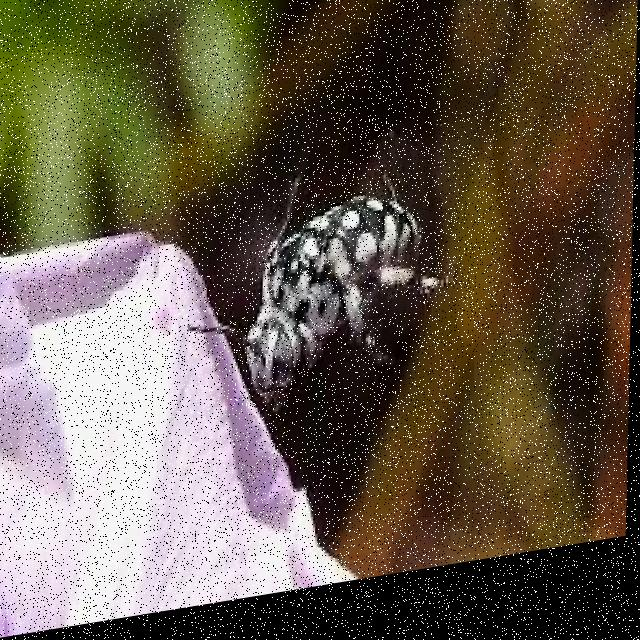Thyreus: (202, 138, 450, 422)
